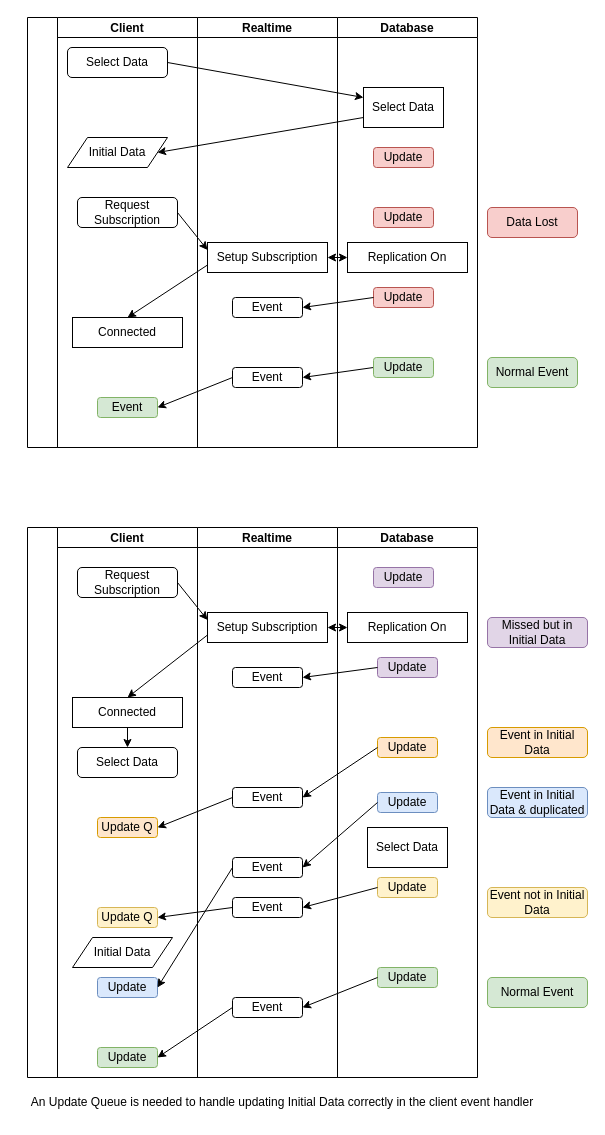
Some shapes in this 605 by 1135 pixel diagram are drawn without their labels. Here are the shapes that lost their labels. From the top down, the box of each, then its label:
(26, 16, 198, 448): Load Data then Subscribe
(26, 526, 198, 1078): Subscribe then Load Data
